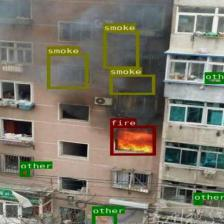fire: (110, 125, 155, 155)
smoke: (46, 53, 88, 89), (103, 30, 138, 68), (109, 75, 155, 94)
